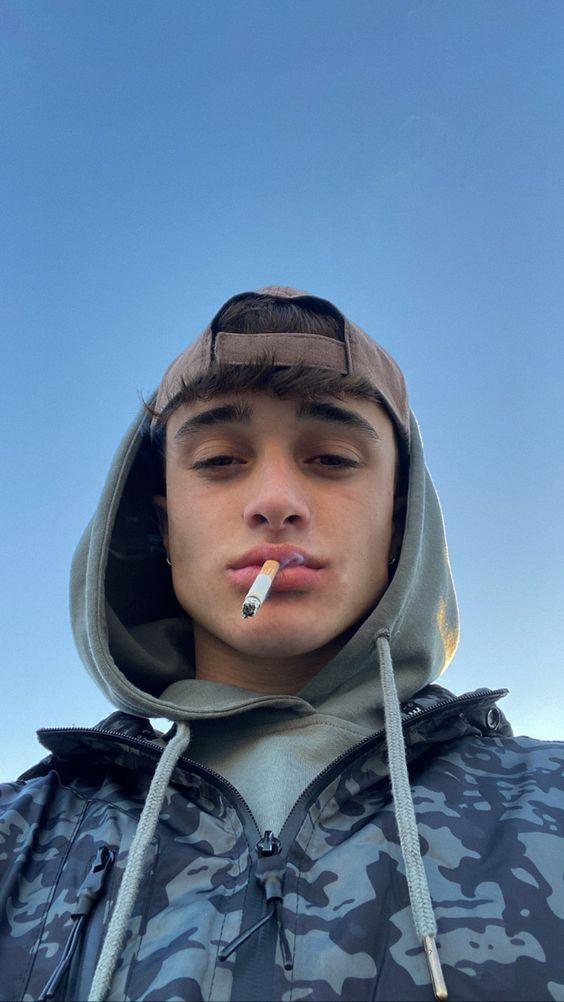cigarette: (240, 560, 282, 618)
